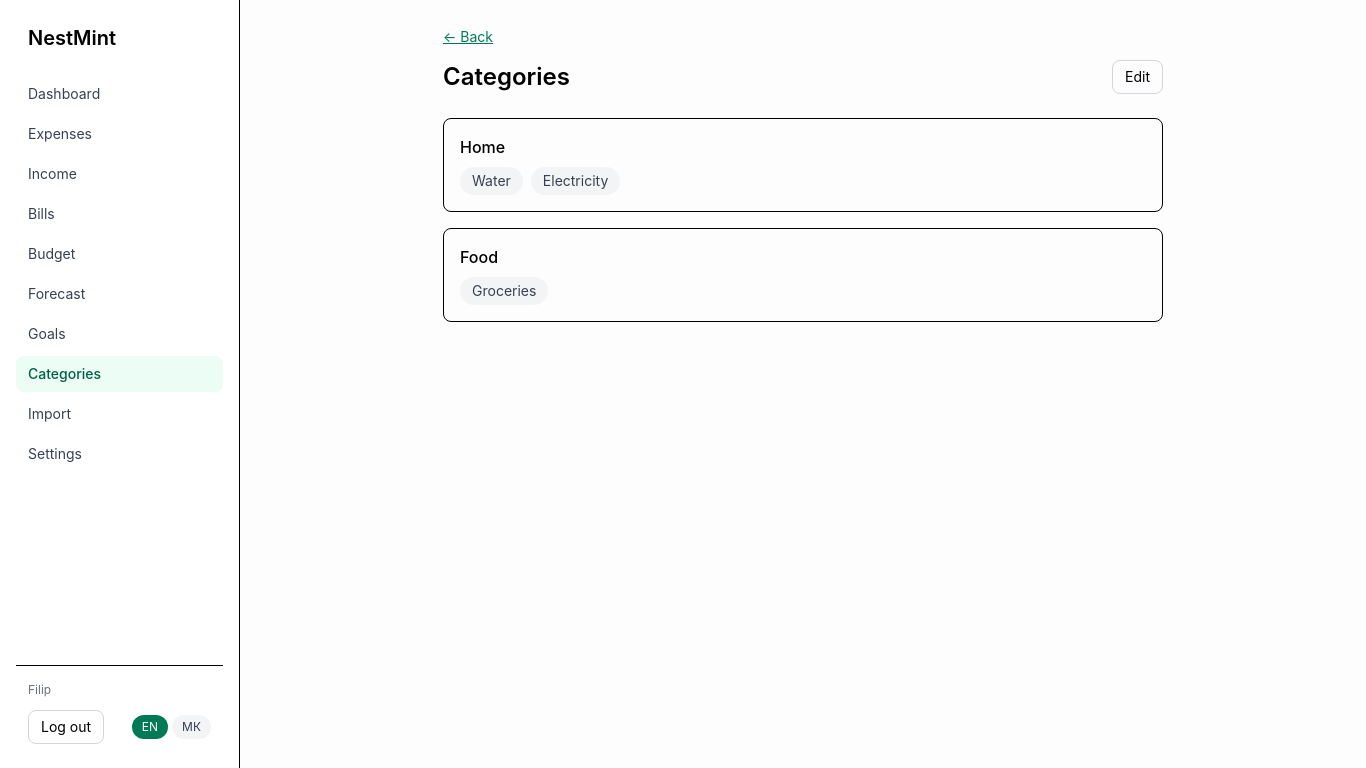
editing categories › asks before archiving, and says what else is archived
Click the button "Edit" at (1138, 77), box [1112,60,1163,94]
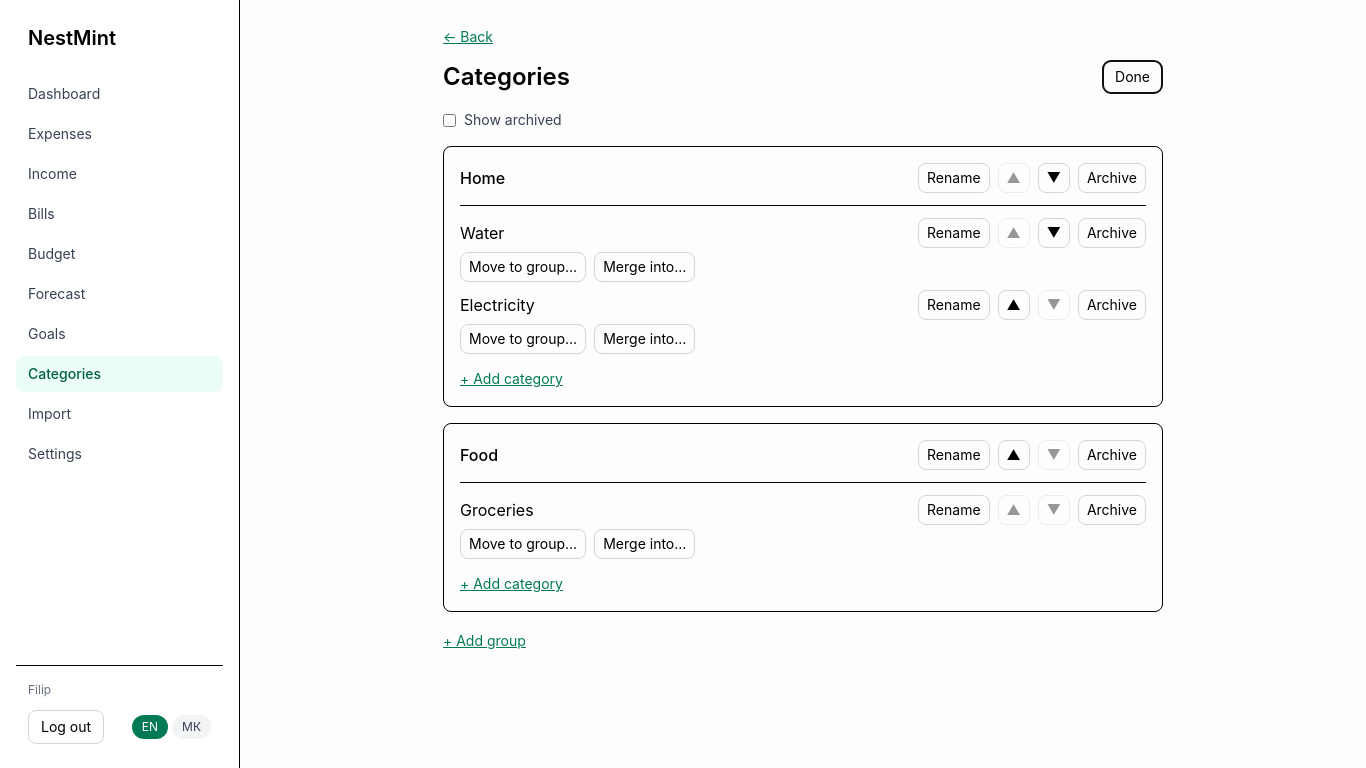
Click the button with aria-label "Archive Home" at (1112, 178), box [1078,163,1146,193]
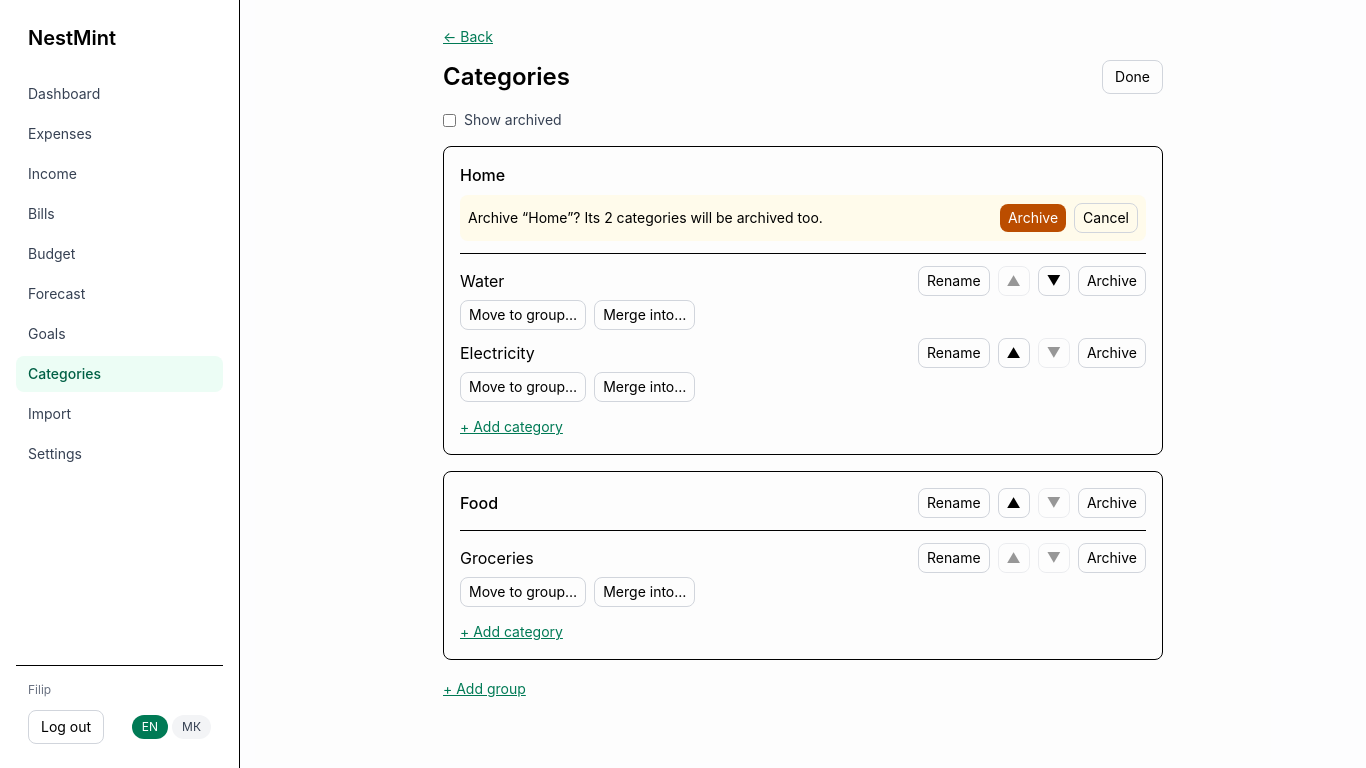
Result: the text "Archive “Home”? Its 2 categories will be archived too." is shown at [468,208,823,228]
Click the button "Cancel" at (1106, 218), box [1074,203,1138,233]
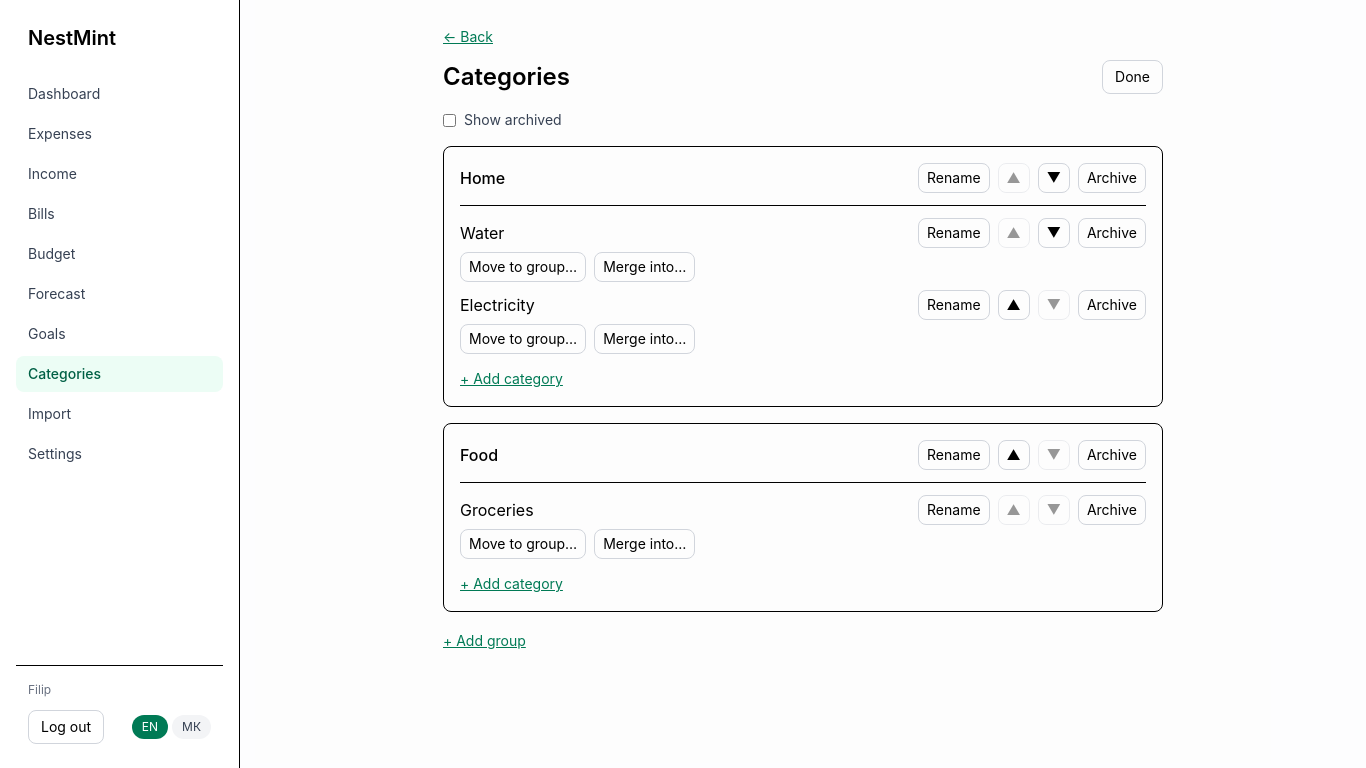
Click the button with aria-label "Archive Food" at (1112, 455), box [1078,440,1146,470]
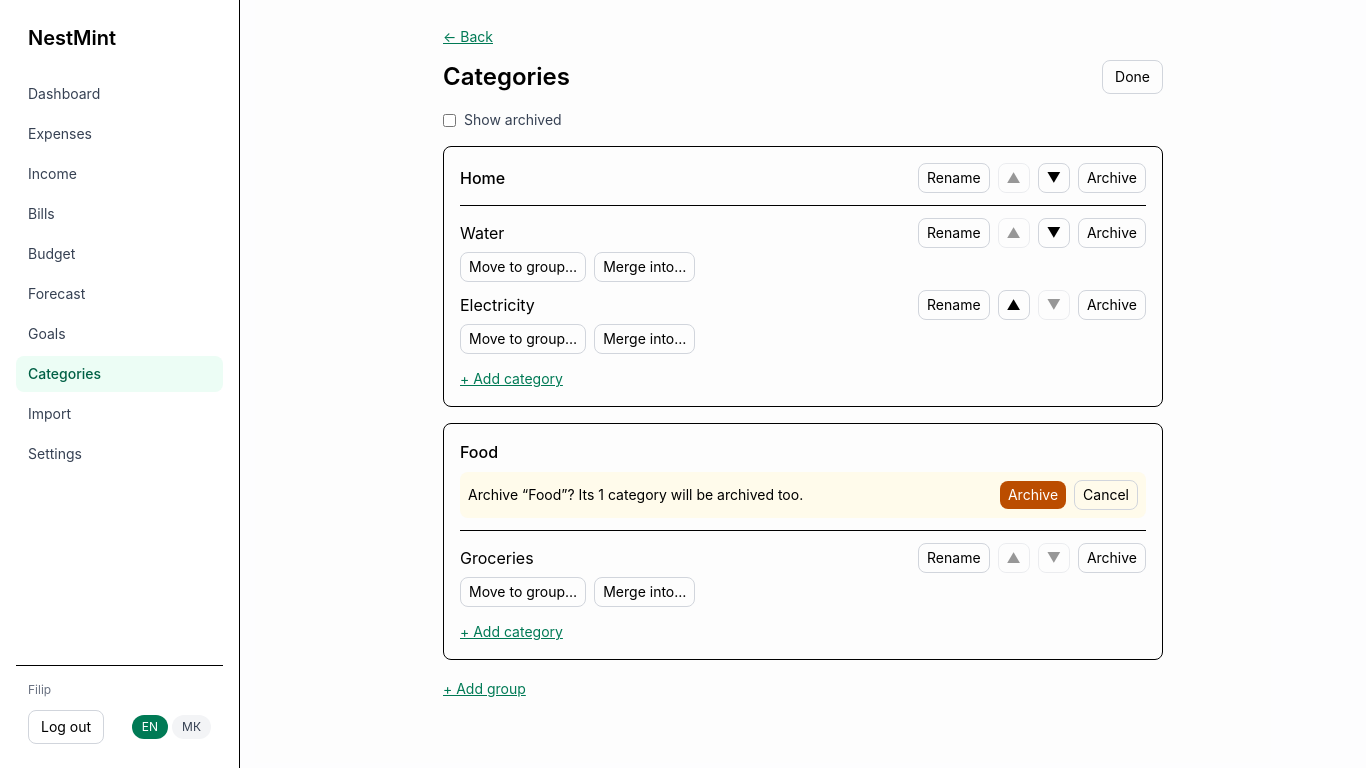
Result: the text "Archive “Food”? Its 1 category will be archived too." is shown at [468,485,803,505]
Click the button with aria-label "Confirm archive Food" at (1033, 495), box [1000,481,1066,509]
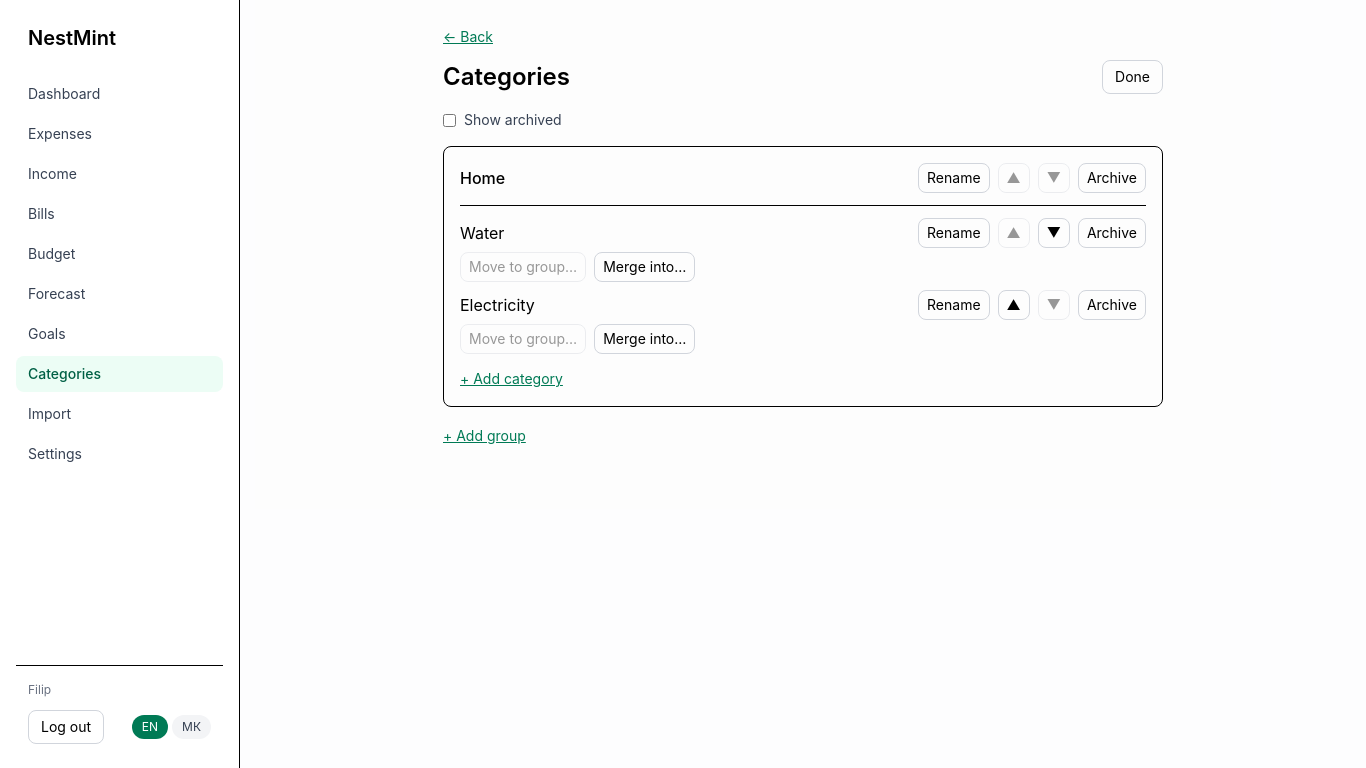
Result: the heading "Food" is gone
